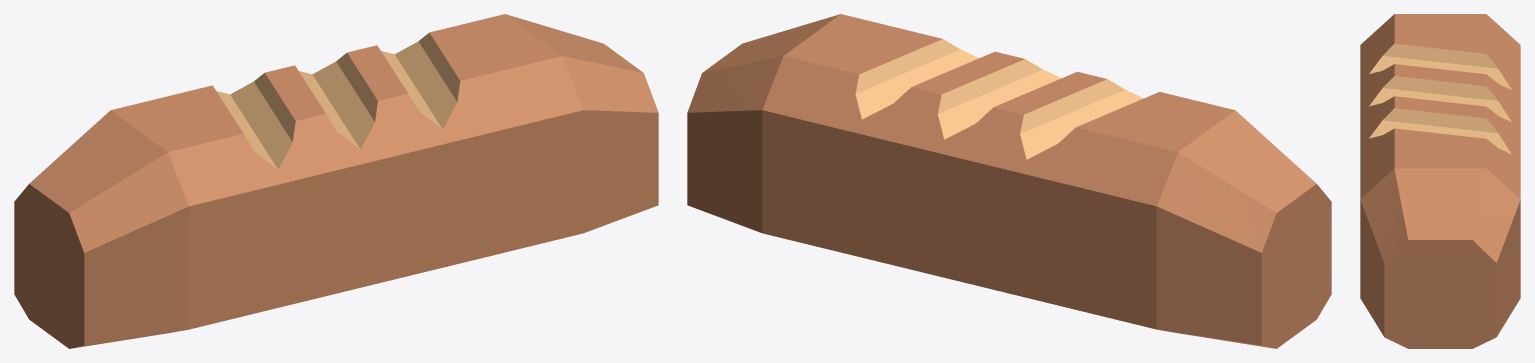
File: loafBaguette.dae
The picture shows the model from 3 angles, left to right: view 1: azimuth 30°, elevation 25°; view 2: azimuth 150°, elevation 25°; view 3: azimuth 270°, elevation 25°; orthographic projection. The views are drawn at different scales.
Parts seen in each view (by area): view 1: loafBaguette; view 2: loafBaguette; view 3: loafBaguette.
Part boxes in pixels (x1,y1,x2,y2): loafBaguette: [14, 14, 658, 348]; loafBaguette: [687, 14, 1331, 348]; loafBaguette: [1360, 14, 1520, 348].
Size of the model in its own units: 0.83 by 0.25 by 0.25.
